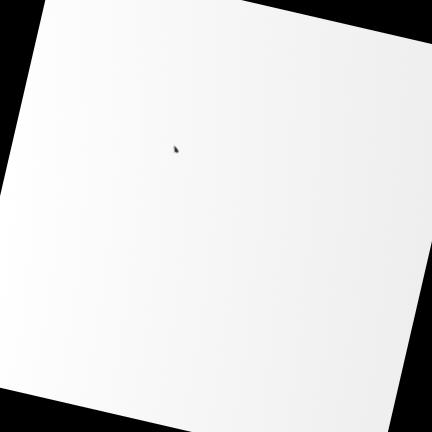Shahed: (173, 145, 178, 153)
